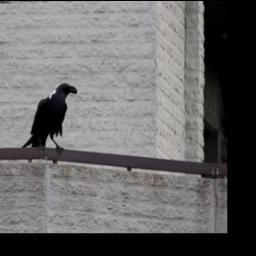Crow: (20, 81, 78, 162)
